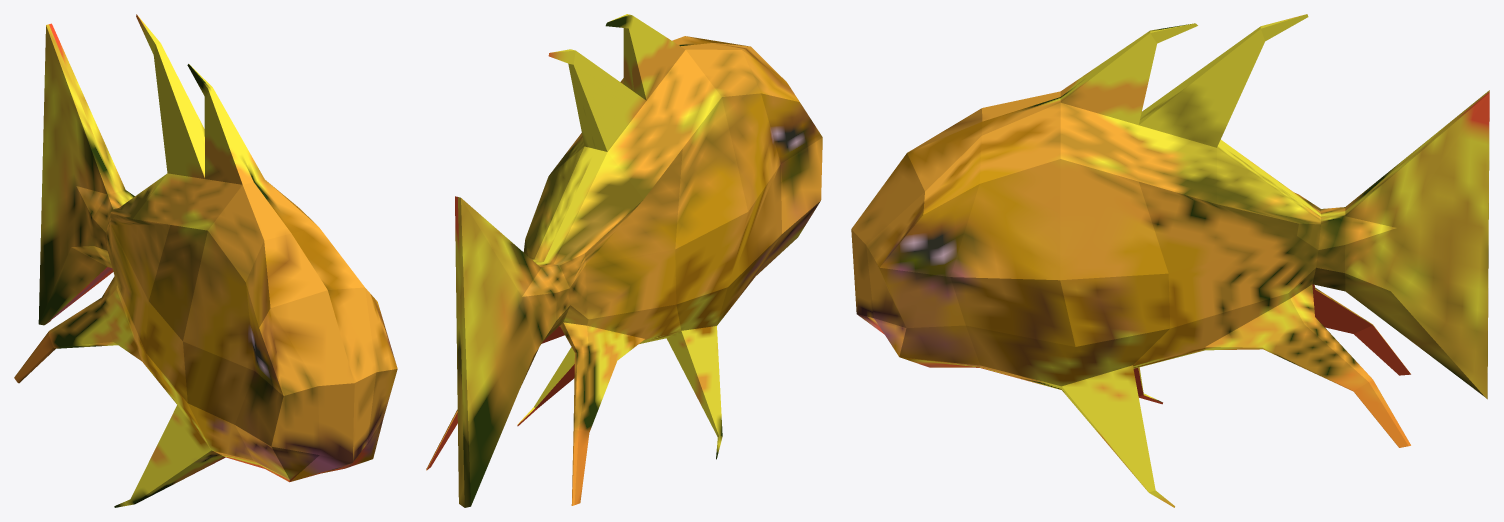
The model's file is SM_Fish.fbx.
The picture shows the model from 3 angles, left to right: view 1: azimuth 30°, elevation 25°; view 2: azimuth 150°, elevation 25°; view 3: azimuth 270°, elevation 25°; orthographic projection. The views are drawn at different scales.
Visible parts, largest first — view 1: SM_fish1; view 2: SM_fish1; view 3: SM_fish1.
Boxes of the visible parts, x1,y1,x2,y2 form: SM_fish1: [14, 14, 397, 507]; SM_fish1: [426, 14, 822, 507]; SM_fish1: [851, 14, 1489, 507].
Size of the model in its own units: 3.5 by 7.72 by 10.
